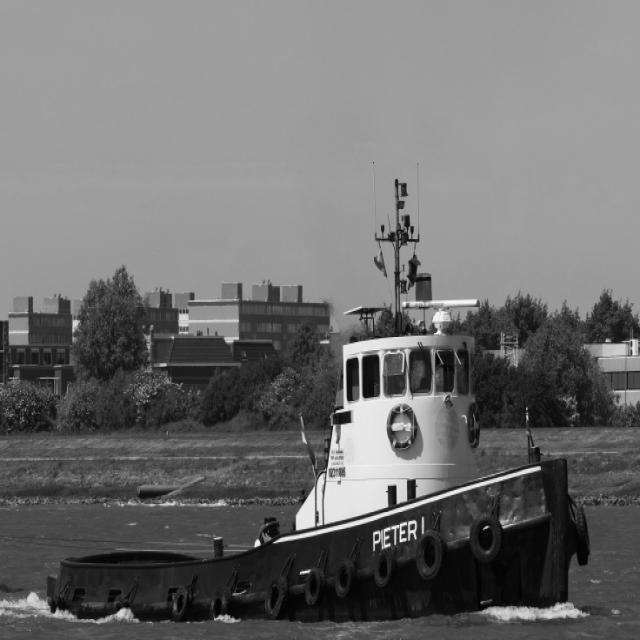tugboat: (44, 158, 595, 634)
